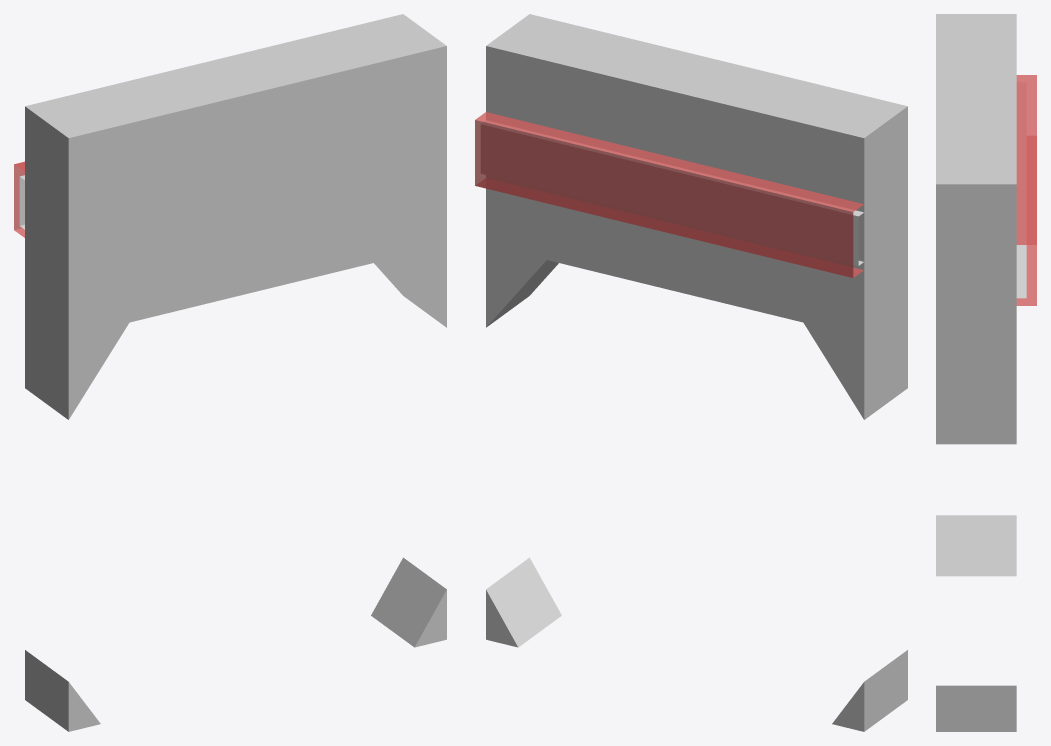
Rendered from Wall_DoorCompatible.fbx.
3 views of the same model, side by side, from view 1: azimuth 30°, elevation 25°; view 2: azimuth 150°, elevation 25°; view 3: azimuth 270°, elevation 25° (orthographic). The views are drawn at different scales.
Visible parts, largest first — view 1: DoorWallPieceR, DoorWallPieceL; view 2: DoorWallPieceR, DoorWallPieceL, WallBeamGlass.002, WallBeamGlass.001, WallBeamLight, WallBeamLight.001; view 3: DoorWallPieceL, DoorWallPieceR, WallBeamGlass.001, WallBeamGlass.002, WallBeamLight.001, WallBeamLight.
Boxes of the visible parts, x1=… form: DoorWallPieceR: x1=25, y1=60, x2=257, y2=731; DoorWallPieceL: x1=214, y1=14, x2=446, y2=647; DoorWallPieceR: x1=675, y1=60, x2=907, y2=731; DoorWallPieceL: x1=486, y1=14, x2=718, y2=647; WallBeamGlass.002: x1=664, y1=158, x2=863, y2=277; WallBeamGlass.001: x1=475, y1=112, x2=674, y2=231; WallBeamLight: x1=670, y1=167, x2=863, y2=265; WallBeamLight.001: x1=481, y1=121, x2=673, y2=218; DoorWallPieceL: x1=936, y1=99, x2=1016, y2=731; DoorWallPieceR: x1=936, y1=14, x2=1016, y2=576; WallBeamGlass.001: x1=1016, y1=160, x2=1036, y2=305; WallBeamGlass.002: x1=1016, y1=75, x2=1036, y2=220; WallBeamLight.001: x1=1016, y1=168, x2=1026, y2=298; WallBeamLight: x1=1017, y1=83, x2=1025, y2=166.
Size of the model in its own units: 200 by 300 by 50.
